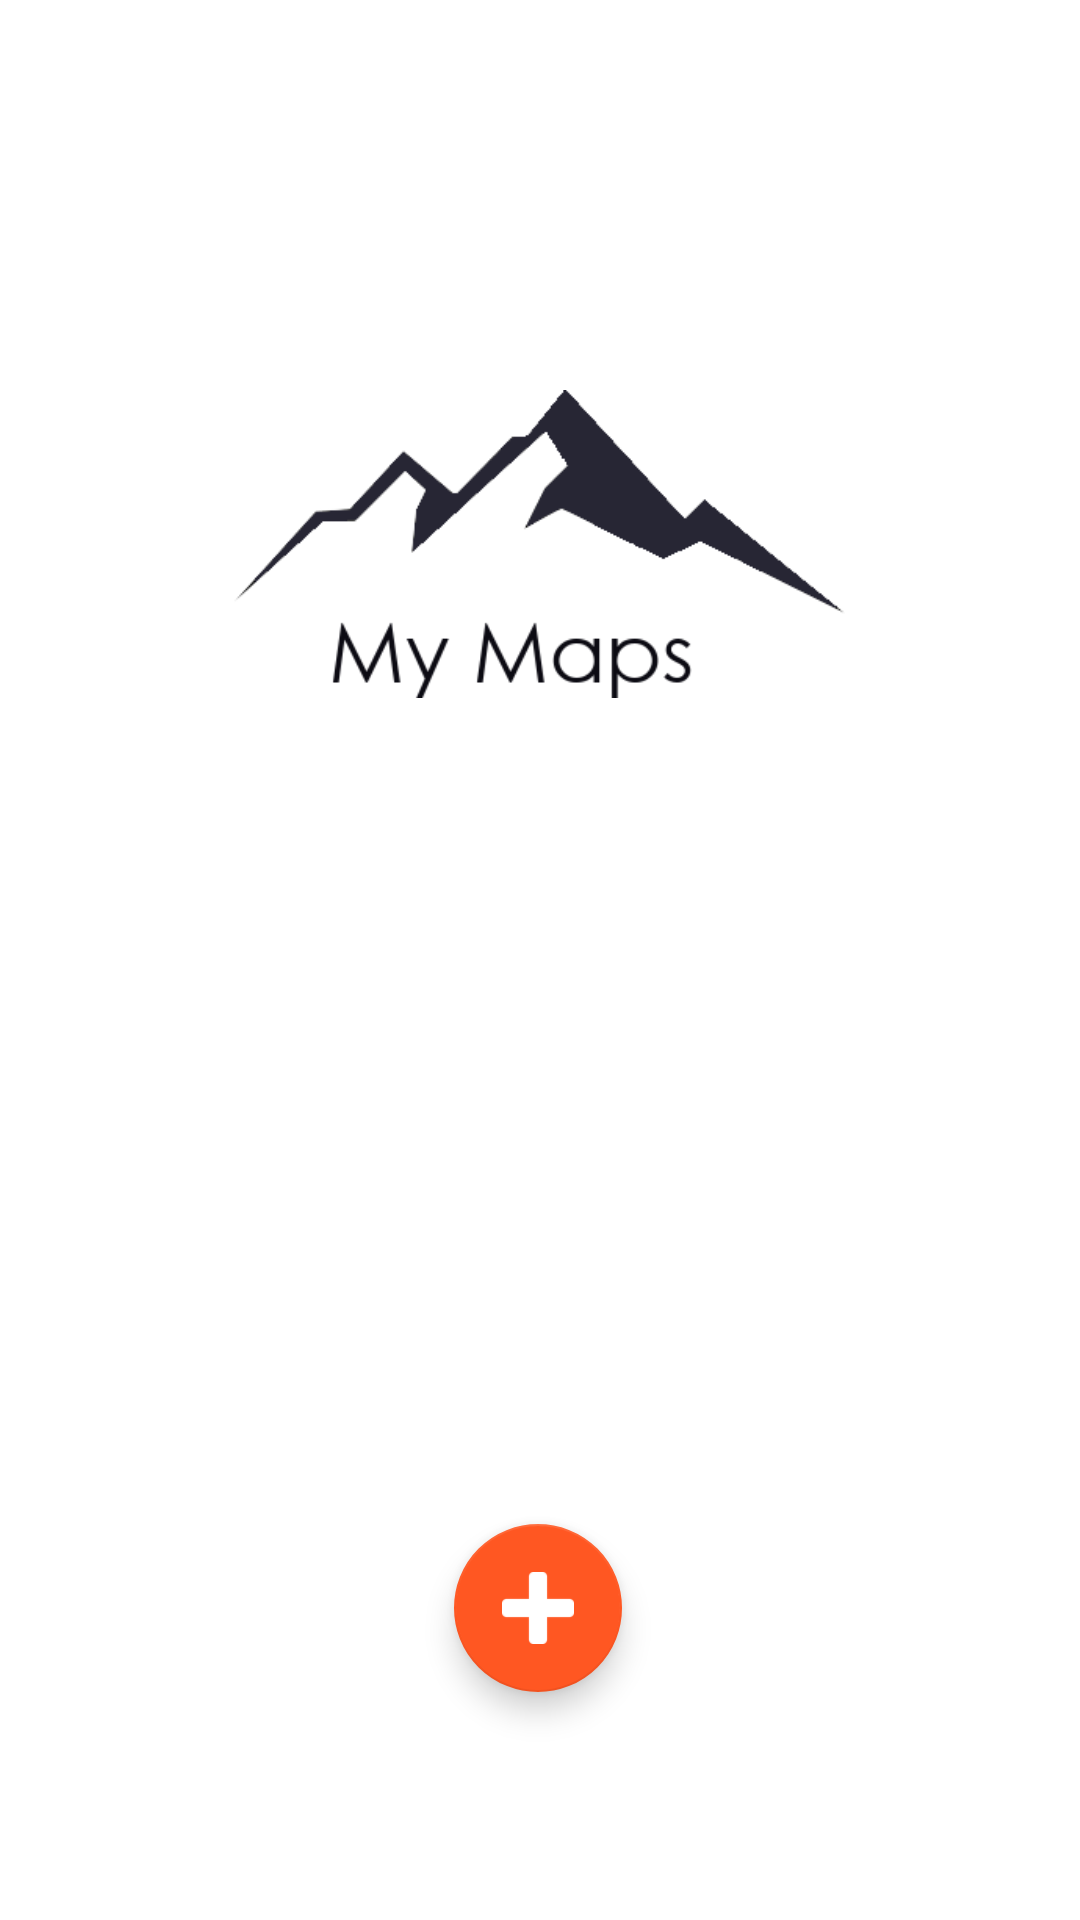

Screen size 1080w x 1920h. Icon name, then its box in pixels as (x1, y1, x2, y2):
plus: (454, 1524, 622, 1692)
